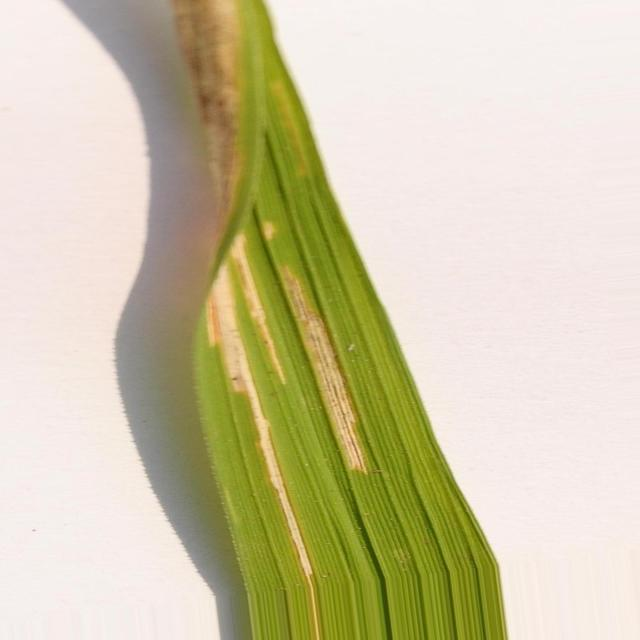Bacterial_Leaf_Blight: (206, 264, 309, 561), (280, 265, 368, 472), (230, 234, 286, 384), (262, 221, 276, 241)
